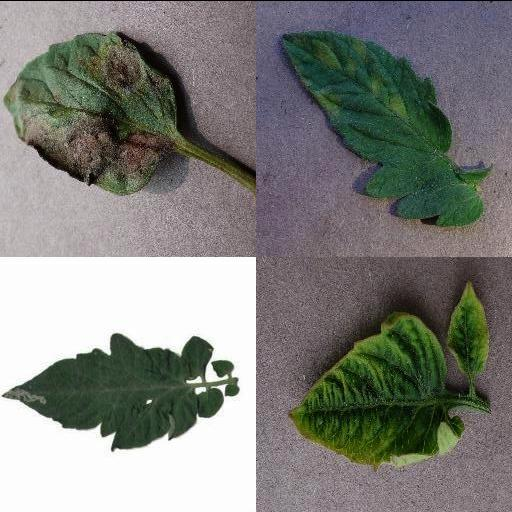Late Blight: (2, 28, 178, 196)
Leaf Miner: (1, 328, 200, 450)
Leaf Mold: (278, 29, 486, 226)
Yellow Leaf Curl Virus: (287, 310, 467, 466), (447, 280, 489, 377)
